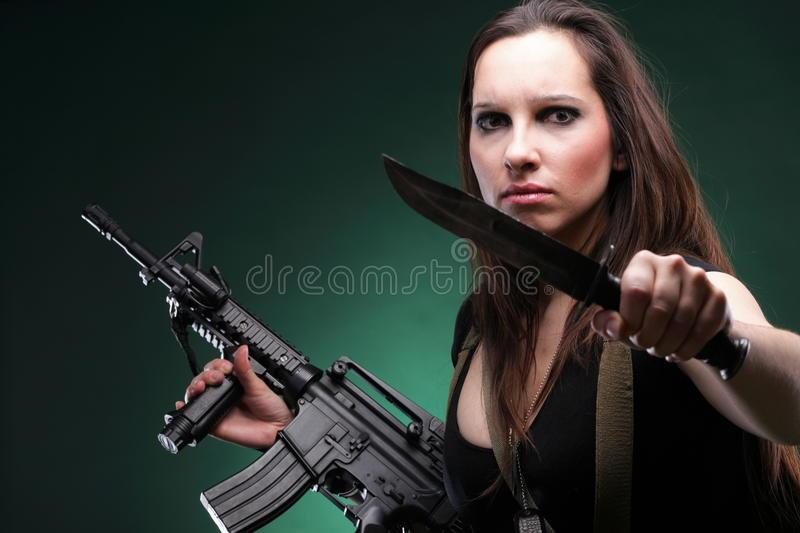criminal: (78, 0, 800, 533)
weapon: (78, 204, 472, 533), (380, 148, 752, 384)
